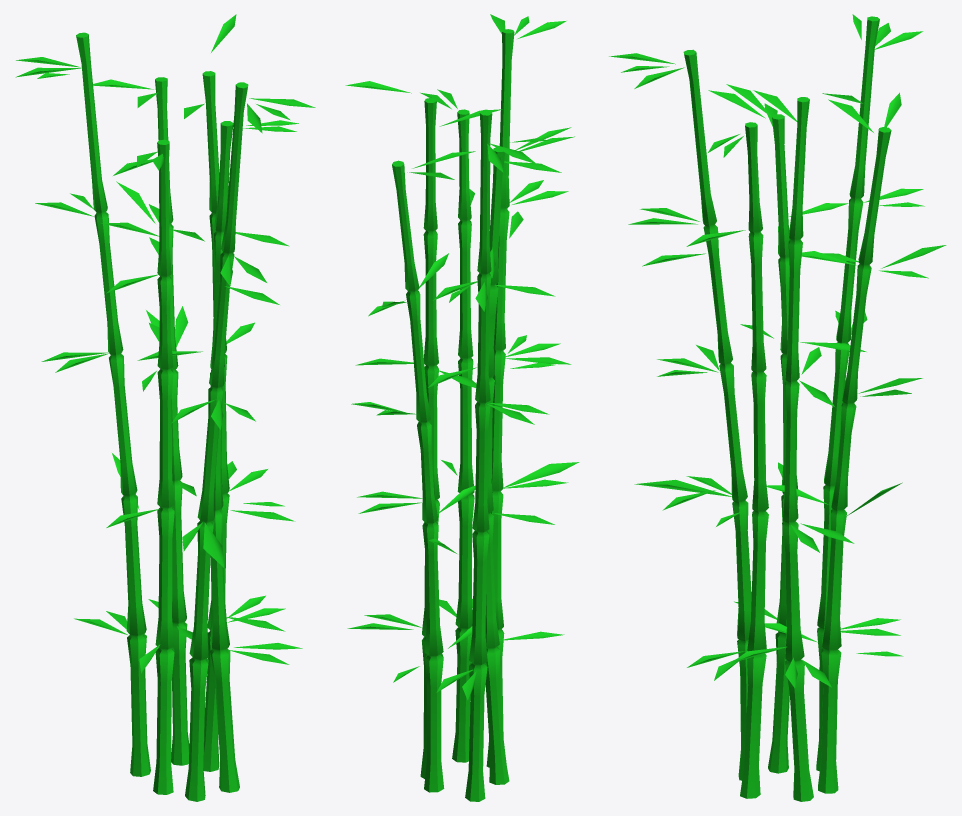
Rendered from pflanzen04.FBX.
3 views of the same model, side by side, from view 1: azimuth 30°, elevation 25°; view 2: azimuth 150°, elevation 25°; view 3: azimuth 270°, elevation 25° (orthographic). The views are drawn at different scales.
Parts seen in each view (by area): view 1: pflanze04; view 2: pflanze04; view 3: pflanze04.
Part boxes in pixels (x1,y1,x2,y2): pflanze04: (15,14,315,801); pflanze04: (345,14,579,801); pflanze04: (609,14,946,801).
Bounding box in the file's own units: 15.35 × 47.44 × 19.85.
